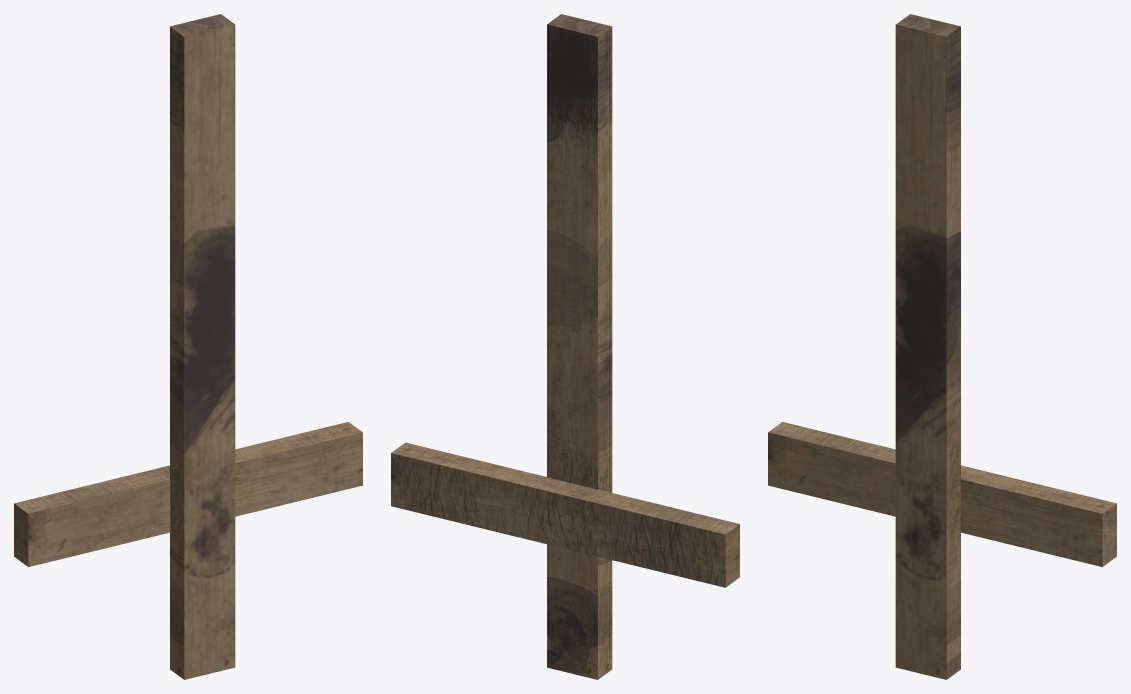
File: Cross.glb
3 views of the same model, side by side, from view 1: azimuth 30°, elevation 25°; view 2: azimuth 150°, elevation 25°; view 3: azimuth 330°, elevation 25° (orthographic).
Parts seen in each view (by area): view 1: pCube3_lambert1_0.001; view 2: pCube3_lambert1_0.001; view 3: pCube3_lambert1_0.001.
Part boxes in pixels (x1=…): pCube3_lambert1_0.001: x1=14, y1=14, x2=362, y2=679; pCube3_lambert1_0.001: x1=391, y1=14, x2=739, y2=679; pCube3_lambert1_0.001: x1=768, y1=14, x2=1116, y2=679.
Size of the model in its own units: 1.78 by 3.27 by 0.2628.
1 material, 1 textured.
